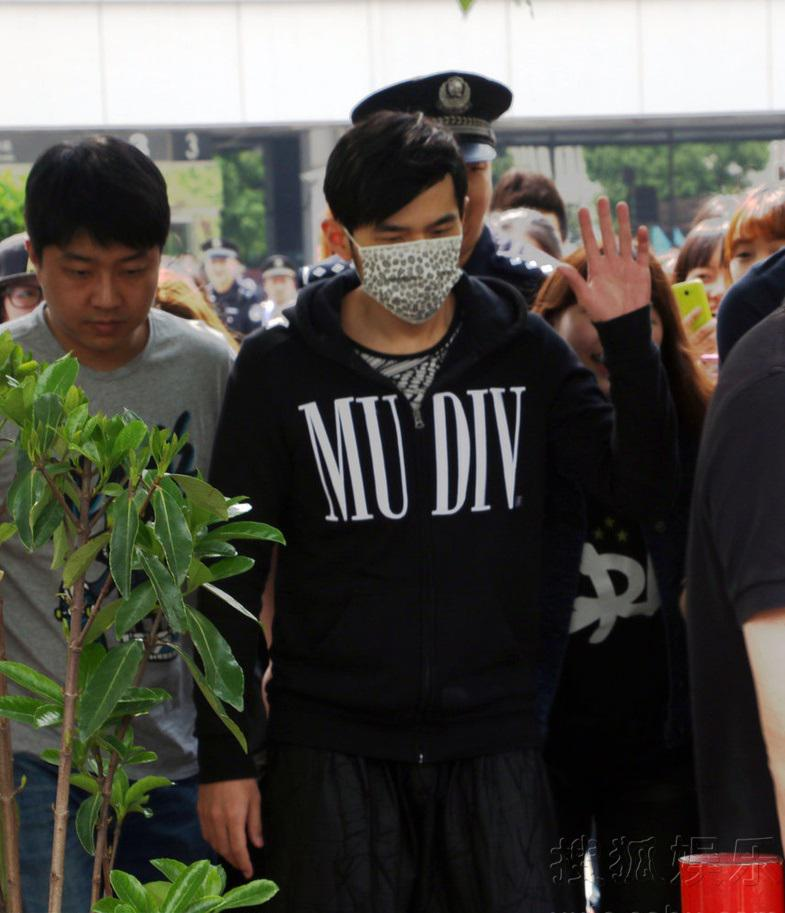NONE: (51, 239, 154, 345)
OK: (353, 201, 475, 323)
